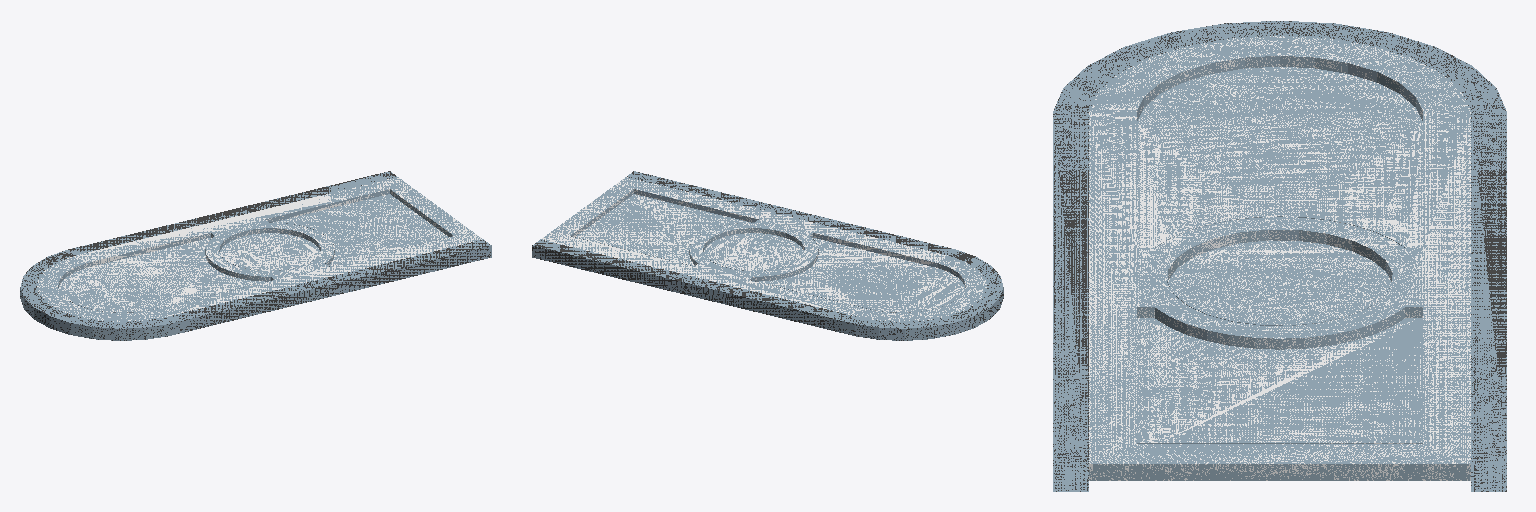
URDF robot description (right-pull-door):
<?xml version="1.0" ?>
<robot name="right-pull-door">
	<link name="base"/>
	<link name="link_0">
		<visual name="out-frame">
			<origin xyz="0 0 0"/>
			<geometry>
				<mesh filename="texture_dae/frame.dae" scale="0.8189554583525107 0.8189554583525107 0.8189554583525107"/>
			</geometry>
		</visual>
		<collision>
			<origin xyz="0 0 0"/>
			<geometry>
				<mesh filename="texture_dae/frame.dae" scale="0.8189554583525107 0.8189554583525107 0.8189554583525107"/>
			</geometry>
		</collision>
	</link>
	<joint name="joint_0" type="fixed">
		<origin rpy="1.570796326794897 0 -1.570796326794897" xyz="0 0 0"/>
		<child link="link_0"/>
		<parent link="base"/>
	</joint>
	<link name="link_1">
		<visual name="surf-board">
			<origin xyz="0.3299410238065448 -0.8491683641712733 0"/>
			<geometry>
				<mesh filename="texture_dae/board.dae" scale="0.8189554583525107 0.8189554583525107 0.8189554583525107"/>
			</geometry>
		</visual>
		<collision>
			<origin xyz="0.3299410238065448 -0.8491683641712733 0"/>
			<geometry>
				<mesh filename="texture_dae/board.dae" scale="0.8189554583525107 0.8189554583525107 0.8189554583525107"/>
			</geometry>
		</collision>
	</link>
	<joint name="joint_1" type="revolute">
		<origin xyz="-0.3299410238065448 0.8491683641712733 0"/>
		<axis xyz="0 -1 0"/>
		<child link="link_1"/>
		<parent link="link_0"/>
		<limit lower="0" upper="1.5079644737231006"/>
	</joint>
	<link name="link_2">
		<visual name="handle">
			<origin xyz="0 0 0"/>
			<geometry>
				<mesh filename="texture_dae/9960025-handle-right.dae" scale="1.2953105643978882 1.2953105643978882 1.2953105643978882"/>
			</geometry>
		</visual>
		<collision>
			<origin xyz="0 0 0"/>
			<geometry>
				<mesh filename="texture_dae/9960025-handle-right.dae" scale="1.2953105643978882 1.2953105643978882 1.2953105643978882"/>
			</geometry>
		</collision>
	</link>
	<joint name="joint_2" type="revolute">
		<origin xyz="0 0 0"/>
		<child link="link_2"/>
		<parent link="link_3"/>
		<axis xyz="0 0 1"/>
		<limit lower="0" upper="1.5079644737231006"/>
	</joint>
	<link name="link_3">
		<visual name="lock">
			<origin xyz="0 0 0"/>
			<geometry>
				<mesh filename="texture_dae/9960025-lock-right.dae" scale="1.2953105643978882 1.2953105643978882 1.2953105643978882"/>
			</geometry>
		</visual>
		<collision>
			<origin xyz="0 0 0"/>
			<geometry>
				<mesh filename="texture_dae/9960025-lock-right.dae" scale="1.2953105643978882 1.2953105643978882 1.2953105643978882"/>
			</geometry>
		</collision>
	</link>
	<joint name="joint_3" type="fixed">
		<origin xyz="0.5793236201129282 -0.9471523824384336 0.027319542902807352"/>
		<child link="link_3"/>
		<parent link="link_1"/>
	</joint>
</robot>

--- Render facts (derived) ---
3 views of the same robot in one strip: view 1: azimuth 30°, elevation 25°; view 2: azimuth 150°, elevation 25°; view 3: azimuth 270°, elevation 25° (orthographic).
Robot: right-pull-door — 5 links, 4 joints (2 revolute, 2 fixed); root link base; default pose: all joints at 0.
Links seen in each view (by area): view 1: link_1, link_0; view 2: link_1, link_0; view 3: link_1, link_0.
Link boxes in pixels (x1=…): link_1: x1=37, y1=177, x2=482, y2=321; link_0: x1=20, y1=171, x2=491, y2=340; link_1: x1=541, y1=177, x2=986, y2=321; link_0: x1=532, y1=171, x2=1003, y2=340; link_1: x1=1089, y1=36, x2=1470, y2=480; link_0: x1=1053, y1=21, x2=1506, y2=491.
Size in the robot's own frame: 1.81 by 0.7829 by 0.0529 metres.
Meshes: 4 distinct files referenced, 2 mesh visuals loaded (2 Collada DAE); not drawn: 2 (file found but could not be loaded).
